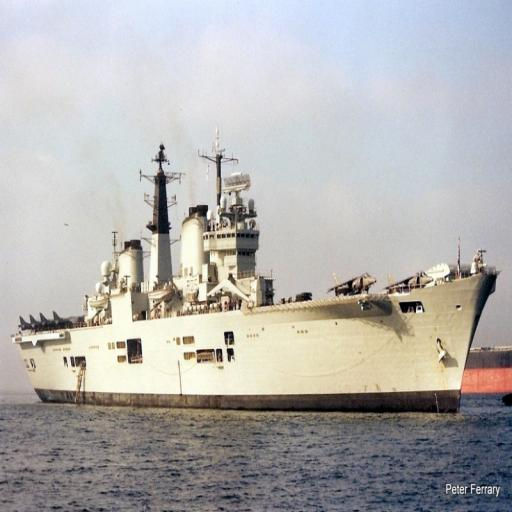Portanaves: (13, 123, 504, 431)
